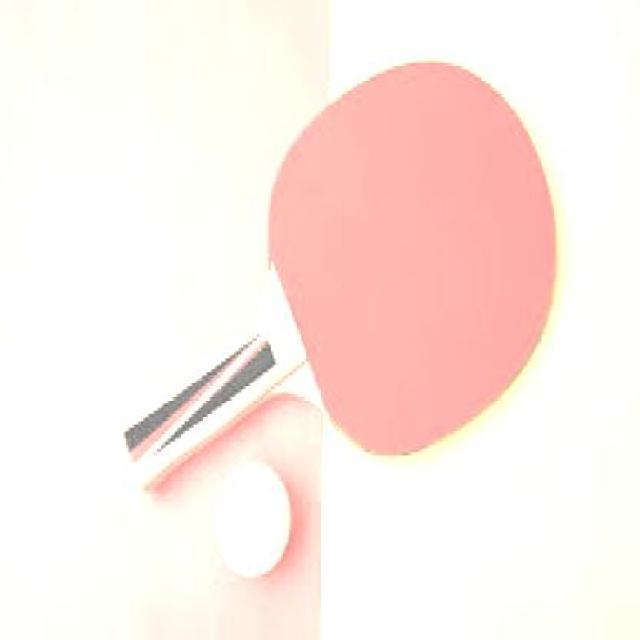table_tennis_racket: (123, 62, 558, 488)
